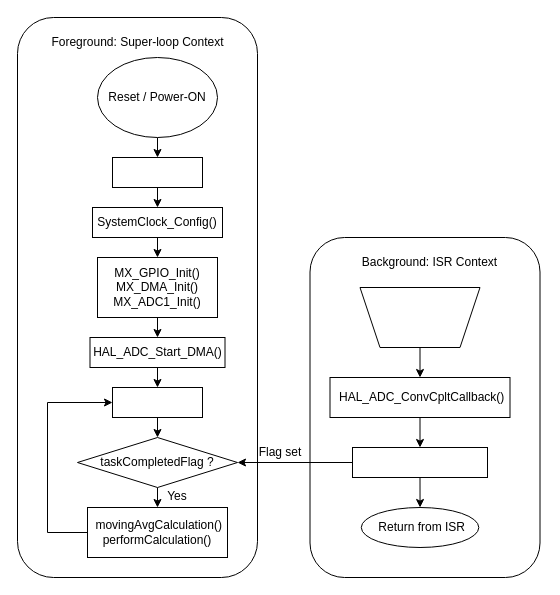
The diagram is 560 pixels wide and 595 high, and some of its shapes have lost their labels. The centre of each missing label's shape, as x and y in pixels:
"ADC DMA Transfer Complete IRQ" belongs at (419,317).
"HAL_Init()" belongs at (157,172).
"taskCompletedFlag = 1" belongs at (420,462).
"while(1)" belongs at (157,402).
